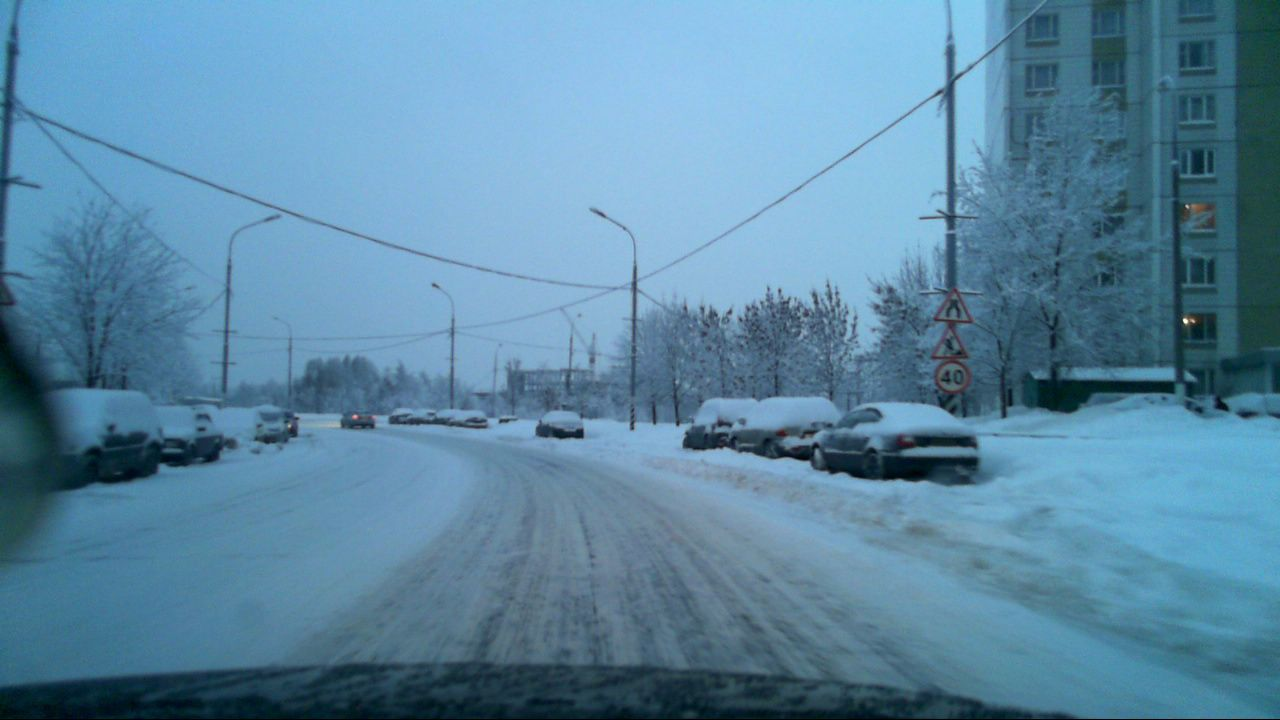speed_warning_40: (934, 357, 971, 394)
